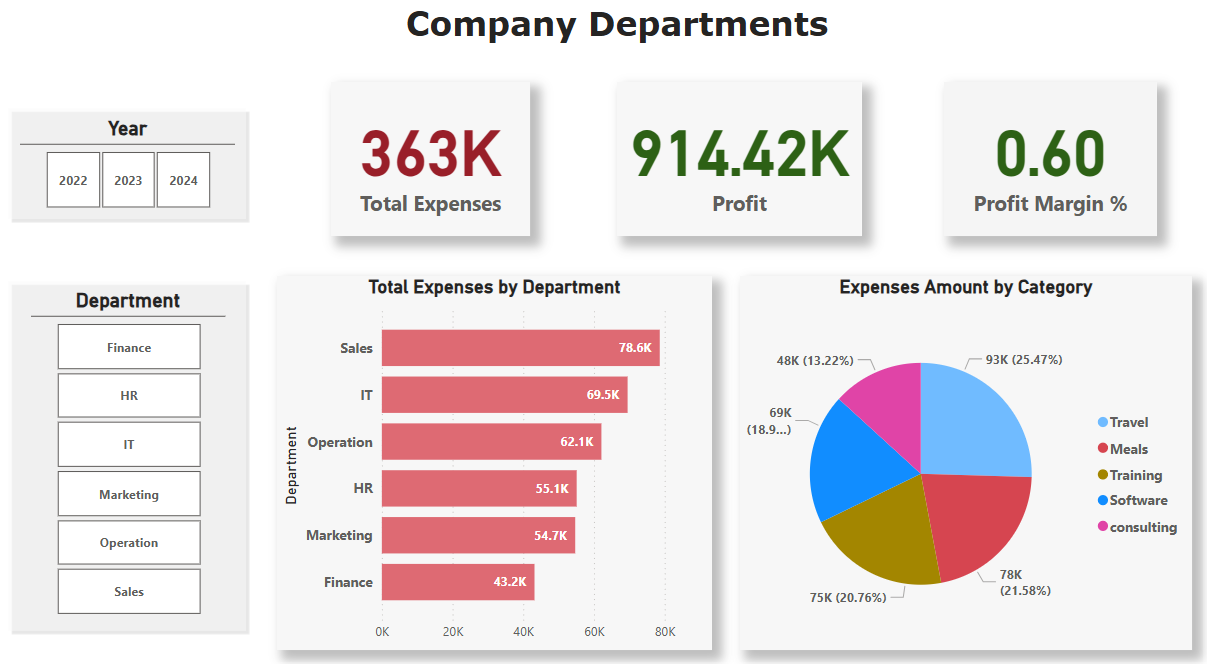

What the dashboard file says about the page in this screenshot:
{"tool":"powerbi","page":{"name":"Company Departments","canvas":[1280,720],"ordinal":5},"visuals":[{"type":"shape","box":[42.8,119.7,241.2,117.7],"z":0},{"type":"shape","box":[42.8,287.9,241.2,350.2],"z":1000},{"type":"textbox","box":[0,17.5,1280,54.5],"z":2000},{"type":"slicer","title":"Year","fields":{"Values":["date_table.Year"]},"box":[59.3,132.3,209.1,95.3],"z":3000},{"type":"slicer","title":"Department","fields":{"Values":["expenses_table.Department"]},"box":[70,299.6,188.7,322.9],"z":4000},{"type":"card","fields":{"Values":["expenses_table.Total Expenses"]},"box":[361.8,99.2,193.6,149.8],"z":6000},{"type":"card","fields":{"Values":["expenses_table.Profit"]},"box":[640,99.2,238.3,149.8],"z":7000},{"type":"card","fields":{"Values":["expenses_table.Profit Margin %"]},"box":[958.1,99.2,207.2,149.8],"z":8000},{"type":"clusteredBarChart","title":"Total Expenses by Department","fields":{"Category":["expenses_table.Department"],"Y":["expenses_table.Total Expenses"]},"box":[309.3,287.9,423.1,363.8],"z":10000},{"type":"pieChart","title":"Expenses Amount by Category","fields":{"Category":["expenses_table.Category"],"Y":["Sum(expenses_table.Amount)"]},"box":[759.6,287.9,439.6,363.8],"z":11000}]}

Visuals, with their boxes in screenshot pixels (x1, y1, x2, y2), scaled from the page's 1280x720 canvas onto the 1207x664 screenshot:
shape: detection(40, 110, 268, 219)
shape: detection(40, 266, 268, 588)
textbox: detection(0, 16, 1206, 66)
"Year" slicer: detection(56, 122, 253, 210)
"Department" slicer: detection(66, 276, 244, 574)
card - expenses_table.Total Expenses: detection(341, 91, 524, 230)
card - expenses_table.Profit: detection(604, 91, 828, 230)
card - expenses_table.Profit Margin %: detection(903, 91, 1099, 230)
"Total Expenses by Department" clusteredBarChart: detection(292, 266, 691, 601)
"Expenses Amount by Category" pieChart: detection(716, 266, 1131, 601)
